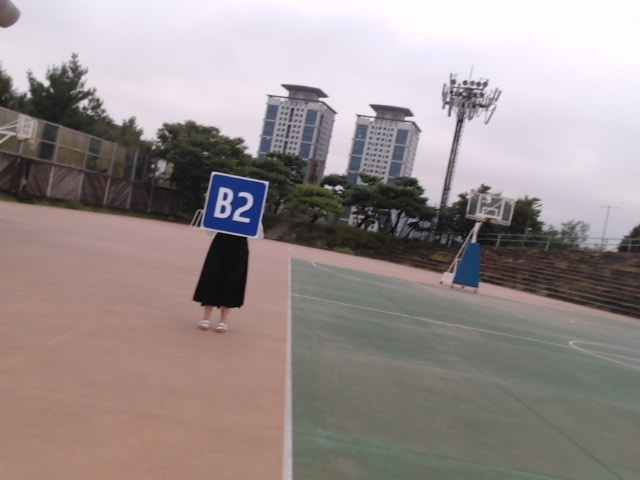delivery_b2: (201, 172, 268, 238)
